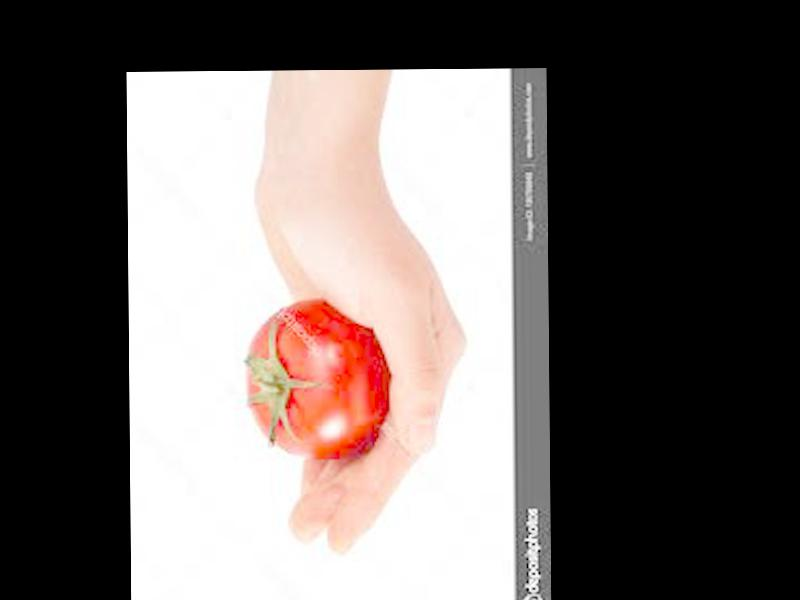Tomato: (247, 297, 388, 455)
